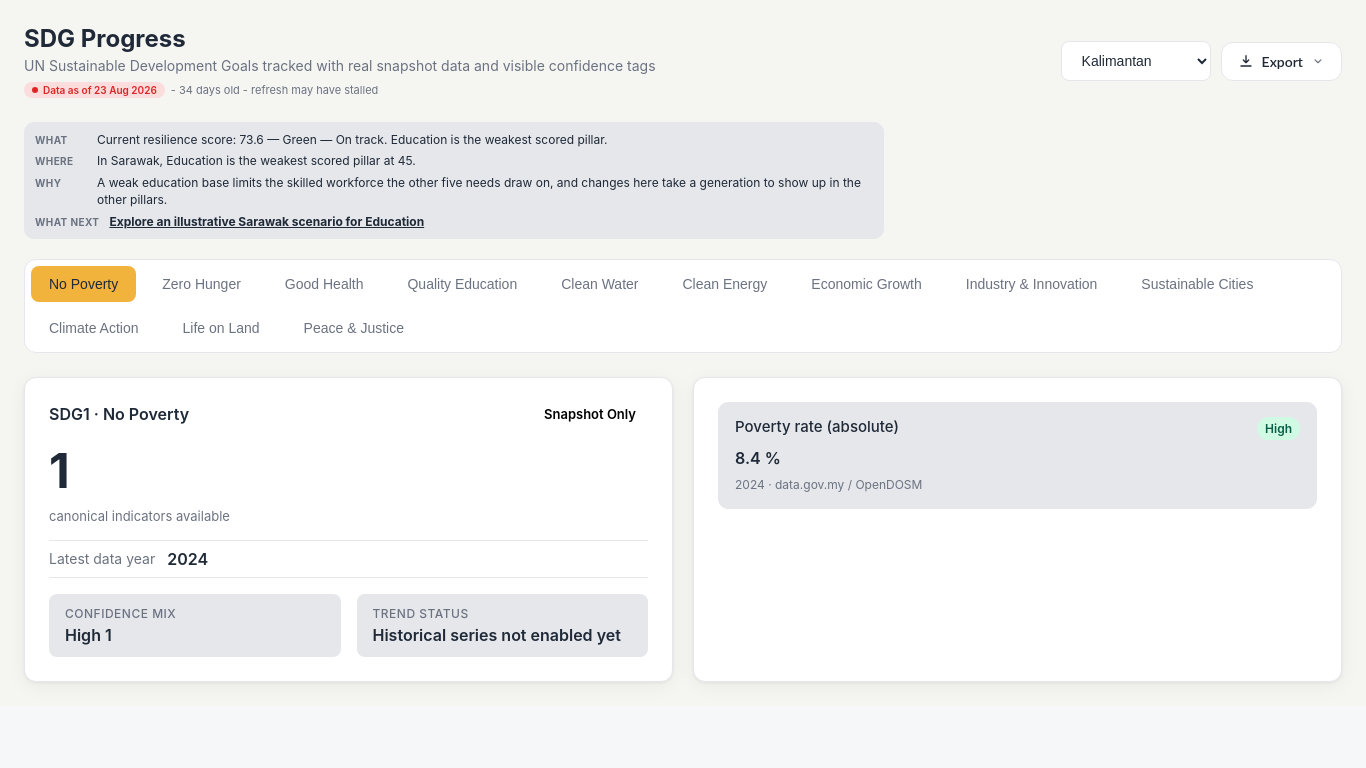
Test: SDG Progress page › names the region in the empty state rather than showing a bare zero
The width and height of the screenshot is (1366, 768).
Select "Kalimantan" in the dropdown at (1136,61), box [1061,41,1211,81]
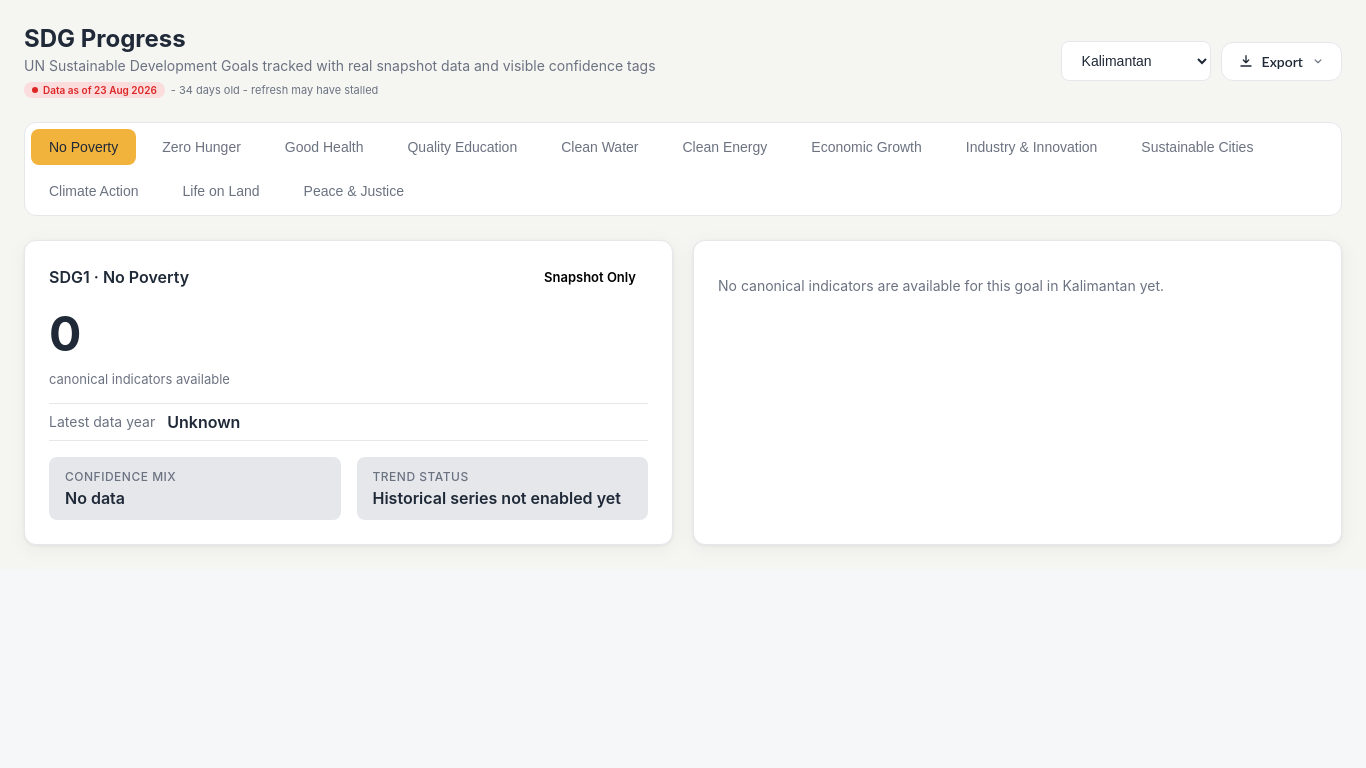
expect the text "No canonical indicators" is shown: met, box [718,277,1164,294]
expect the text "Kalimantan" is shown: met, box [718,277,1164,294]
expect the text "No data" is shown: met, box [65,488,125,508]
